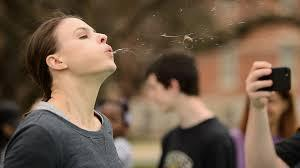Spitting: (15, 11, 158, 99)
